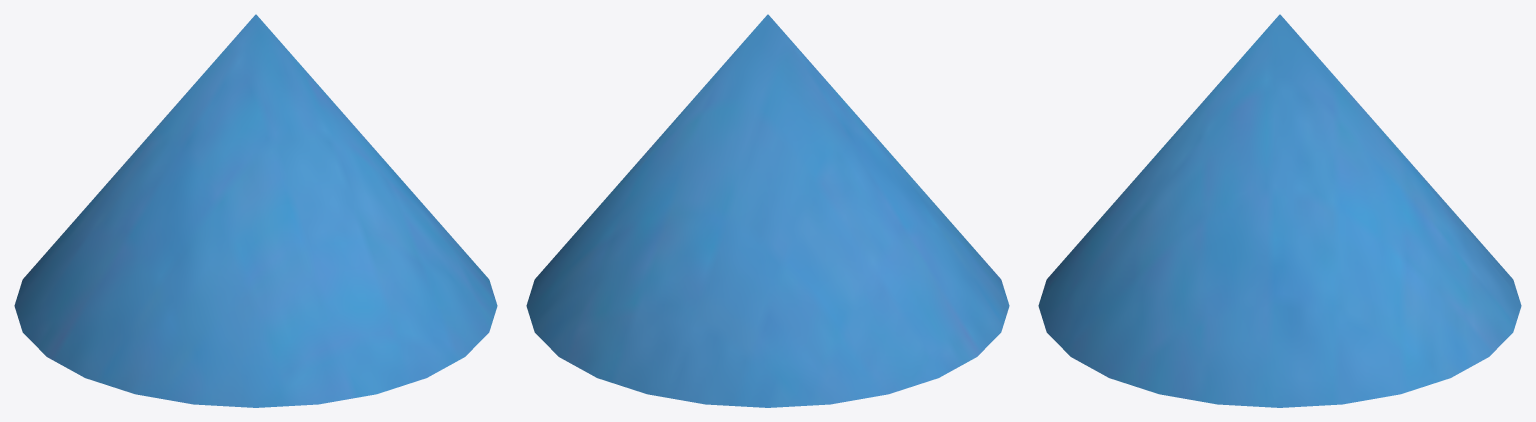
The model's file is cone-blue-0p8x0p5cbj_LOD00.gltf.
The picture shows the model from 3 angles, left to right: view 1: azimuth 30°, elevation 25°; view 2: azimuth 150°, elevation 25°; view 3: azimuth 270°, elevation 25°; orthographic projection.
Visible parts, largest first — view 1: cone; view 2: cone; view 3: cone.
Part boxes in pixels (left/top/right/bottom): cone: left=14, top=14, right=497, bottom=407; cone: left=526, top=14, right=1009, bottom=407; cone: left=1038, top=14, right=1521, bottom=407.
Bounding box in the file's own units: 0.75 × 0.5 × 0.75.
